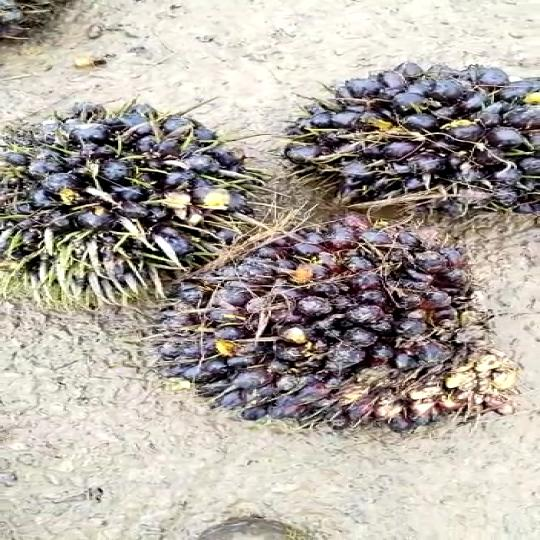mentah: (168, 235, 535, 441), (0, 97, 258, 320), (277, 73, 540, 221)
